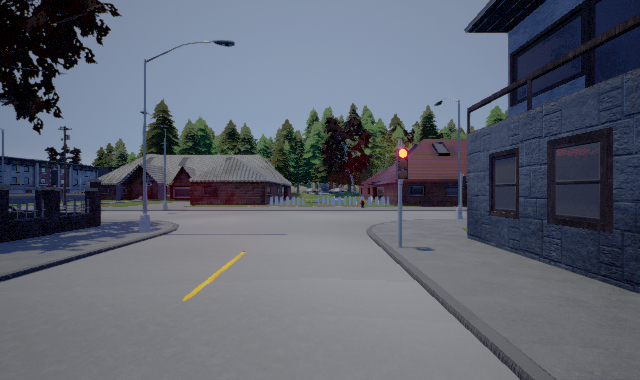traffic_light: (397, 146, 408, 180)
